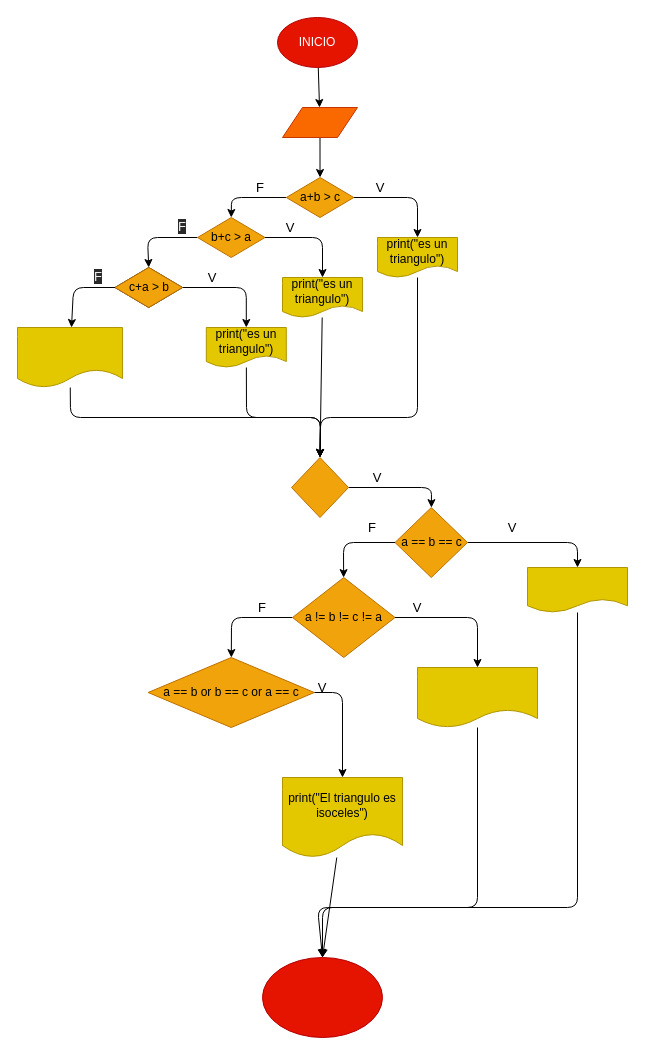
This 645x1055 diagram has some shape labels left out. Each missing label, with the centre of its shape:
a,b,c: point 320,122
bandera: point 319,487
FIN: point 322,997
print("El triangulo es equilatero"): point 577,589
print("El triangulo es escaleno"): point 477,697
print("no se puede formar un triangulo"): point 69,357
